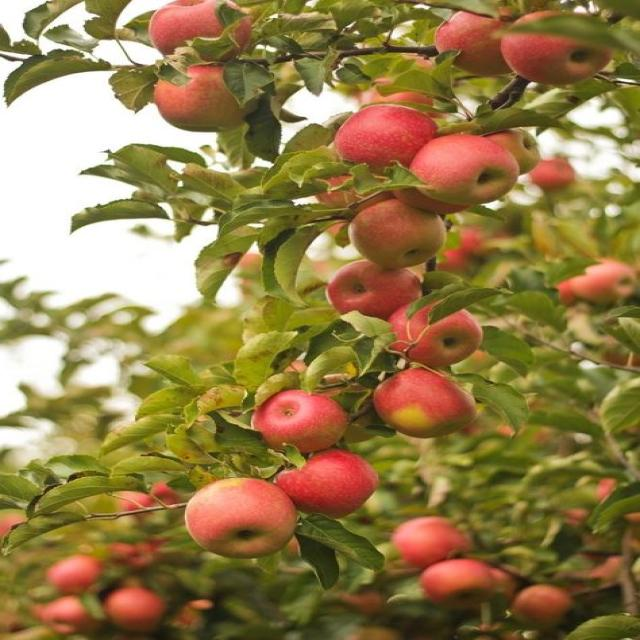Tao: (505, 4, 625, 87), (405, 127, 524, 210), (148, 63, 272, 142), (132, 0, 273, 68), (184, 479, 308, 555), (431, 0, 533, 83), (347, 91, 444, 175), (243, 382, 351, 456), (368, 368, 480, 439), (346, 201, 450, 272), (266, 452, 381, 516), (383, 303, 482, 367), (386, 510, 484, 574), (330, 264, 422, 316), (478, 112, 552, 168), (301, 171, 390, 214), (568, 258, 640, 310), (103, 587, 181, 635), (419, 562, 498, 608), (36, 551, 118, 592), (517, 580, 581, 629), (40, 597, 98, 640)
